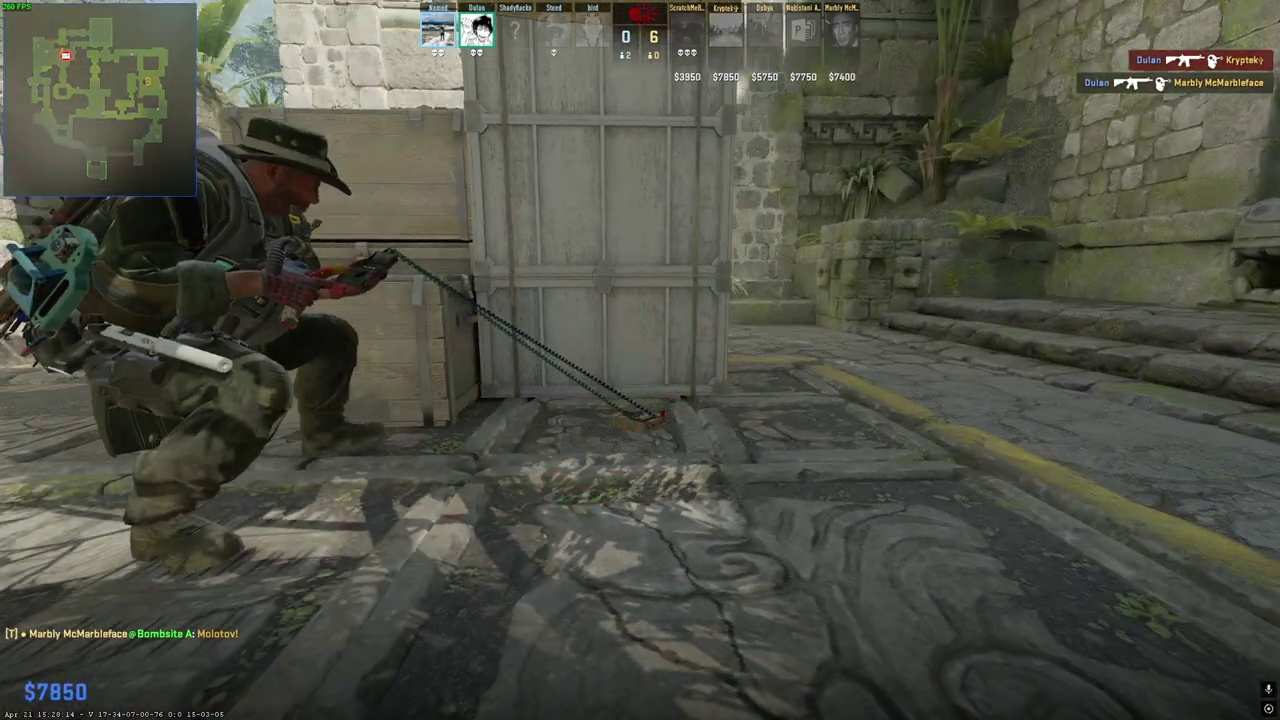CT: (23, 118, 386, 571)
